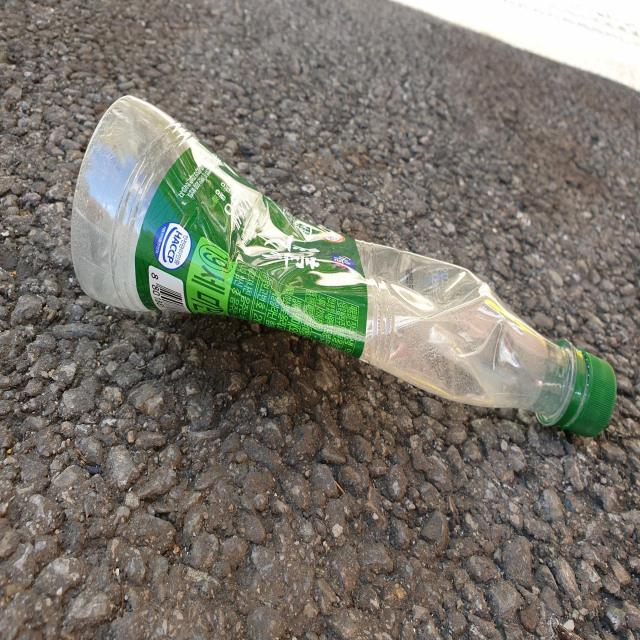plastic: (71, 95, 617, 436)
